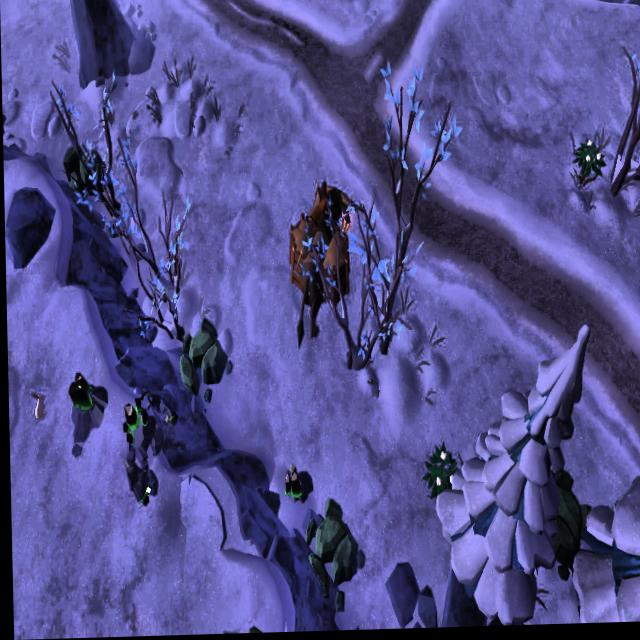fiber_t3: (570, 135, 612, 198), (423, 438, 460, 503)
mobOre_t3: (121, 387, 169, 507)
ore_t3: (68, 363, 104, 438), (278, 465, 309, 505)
rock_t3: (301, 495, 366, 599), (532, 468, 591, 575), (175, 315, 232, 402), (61, 141, 110, 204)
